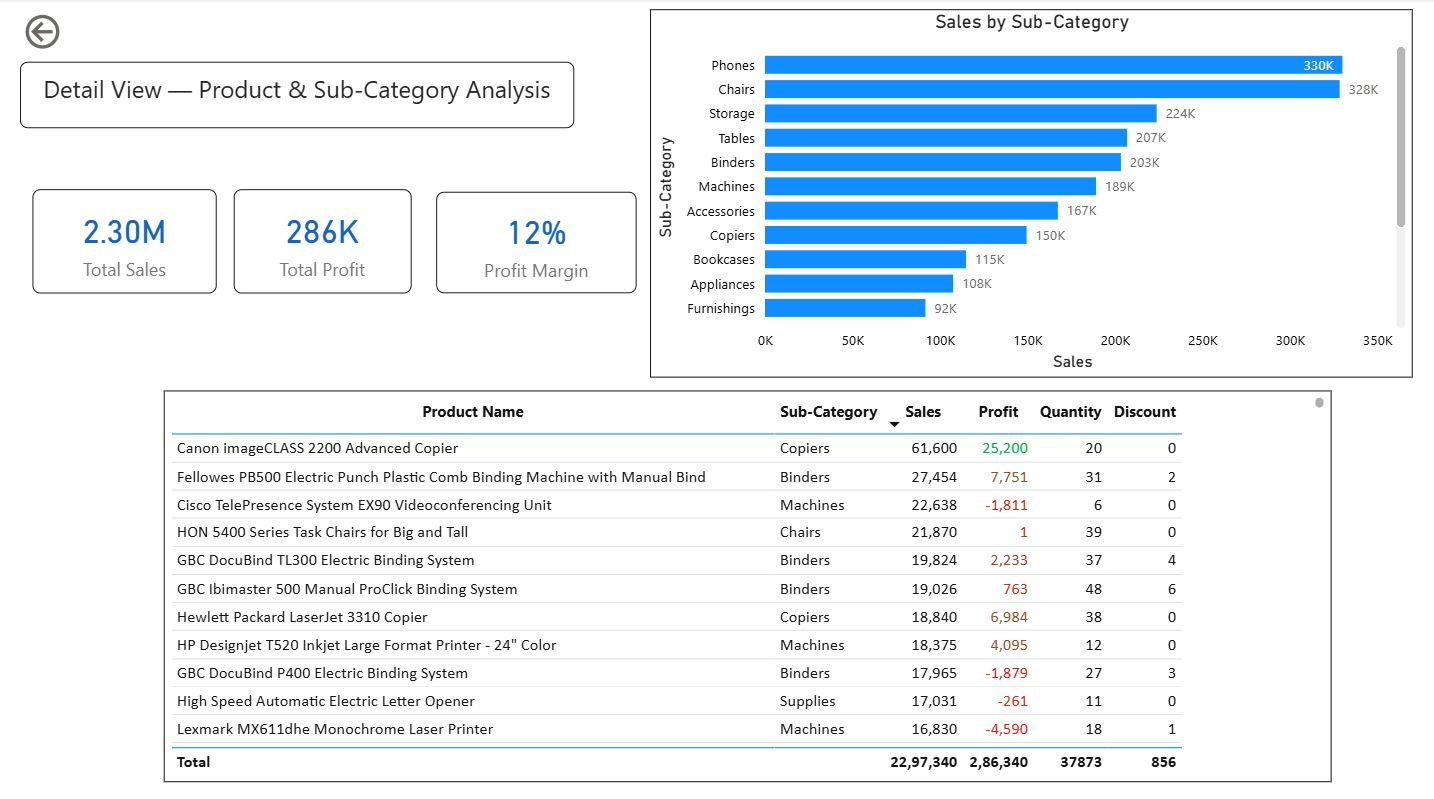

The page's visual inventory and layout, read from the dashboard file:
{"tool":"powerbi","page":{"name":"Detail View","canvas":[1280,720],"ordinal":2},"visuals":[{"type":"actionButton","box":[17.8,10,100.2,40.1],"z":0},{"type":"card","fields":{"Values":["measure.TOTAL SALES"]},"box":[29,170.1,164.1,92.9],"z":1000},{"type":"card","fields":{"Values":["Sum(superstore.Profit)"]},"box":[208.7,170.1,158,92.9],"z":2000},{"type":"clusteredBarChart","title":"Sales by Sub-Category","fields":{"Category":["superstore.Sub-Category"],"Y":["Sum(superstore.Sales)"]},"box":[579.1,9.7,679.2,328.2],"z":3000},{"type":"textbox","box":[18.1,56.7,493.4,59.1],"z":4000},{"type":"tableEx","fields":{"Values":["superstore.Product Name","superstore.Sub-Category","Sum(superstore.Sales)","Sum(superstore.Profit)","Sum(superstore.Quantity)","Sum(superstore.Discount)"]},"box":[145.8,349.5,1039.7,348.4],"z":5000},{"type":"card","fields":{"Values":["measure.PROFIT MARGIN"]},"box":[388.5,172.5,178.6,90.5],"z":6000}]}

Visuals, with their boxes in screenshot pixels (x1, y1, x2, y2), scaled from the page's 1280x720 canvas onto the 1434x799 screenshot:
actionButton: <bbox>20, 11, 132, 56</bbox>
card - measure.TOTAL SALES: <bbox>32, 189, 216, 292</bbox>
card - Sum(superstore.Profit): <bbox>234, 189, 411, 292</bbox>
"Sales by Sub-Category" clusteredBarChart: <bbox>649, 11, 1410, 375</bbox>
textbox: <bbox>20, 63, 573, 129</bbox>
tableEx - superstore.Product Name x superstore.Sub-Category: <bbox>163, 388, 1328, 774</bbox>
card - measure.PROFIT MARGIN: <bbox>435, 191, 635, 292</bbox>
